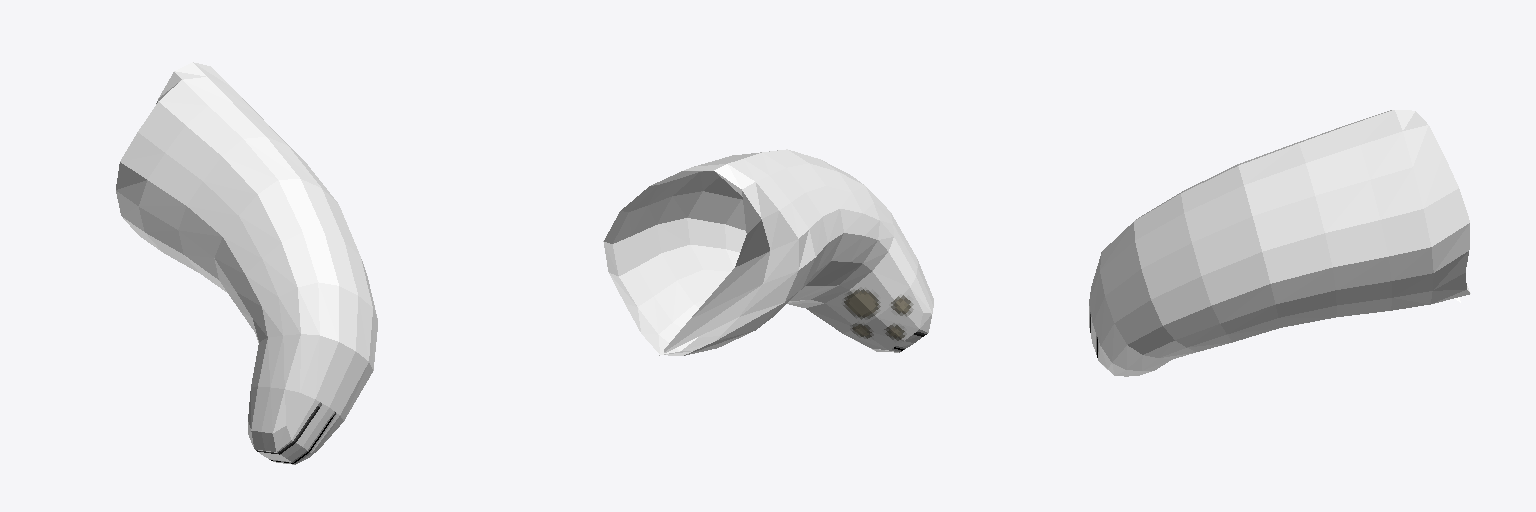
The picture shows the model from 3 angles: view 1: azimuth 30°, elevation 25°; view 2: azimuth 150°, elevation 25°; view 3: azimuth 270°, elevation 25°; orthographic projection.
Parts seen in each view (by area): view 1: polySurface11 polySurface10; view 2: polySurface11 polySurface10; view 3: polySurface11 polySurface10.
Part boxes in pixels (left/top/right/bottom): polySurface11 polySurface10: left=116, top=62, right=377, bottom=464; polySurface11 polySurface10: left=603, top=149, right=933, bottom=355; polySurface11 polySurface10: left=1089, top=110, right=1470, bottom=376.
Bounding box in the file's own units: 1.03 × 1.6 × 2.
1 materials, 1 textured.